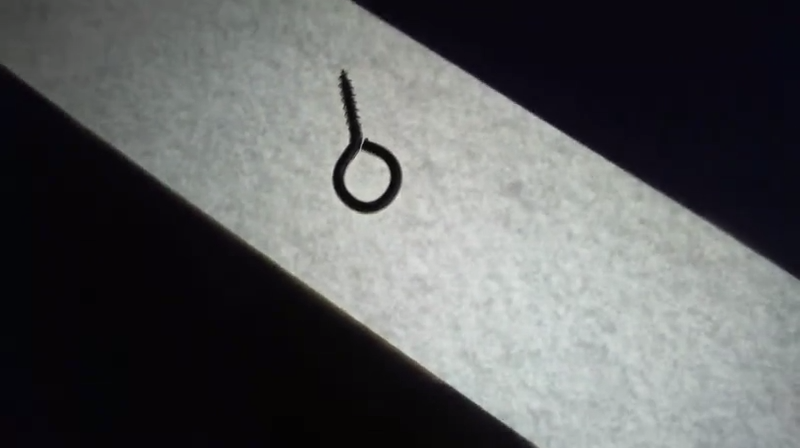O001: (329, 66, 407, 216)
